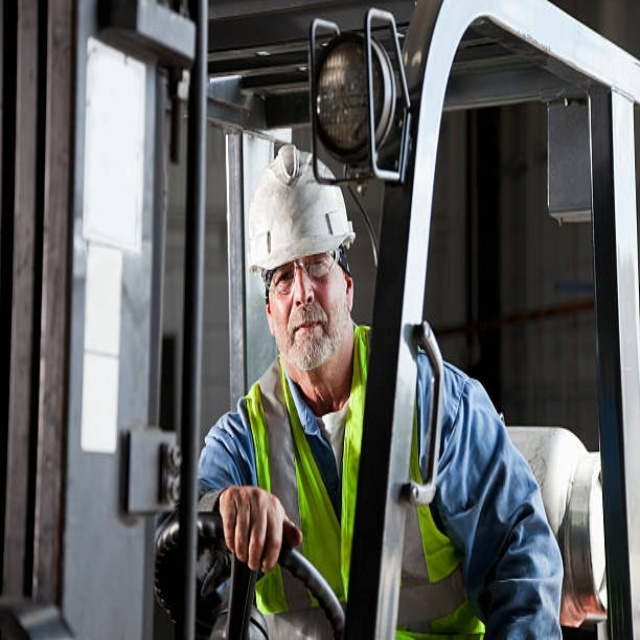Gafas: (265, 249, 342, 296)
Sin_guantes: (217, 484, 302, 573)
Sin_mascara: (285, 309, 332, 362)
